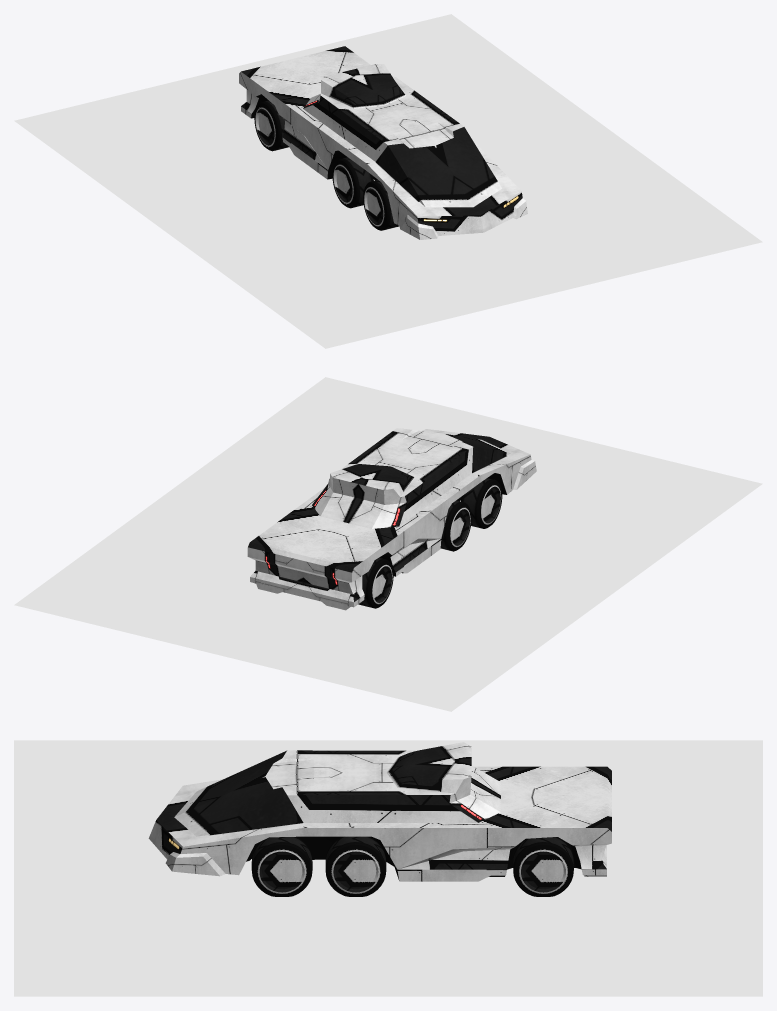
The model's file is Scifi.glb.
3 views of the same model, one above another, from view 1: azimuth 30°, elevation 25°; view 2: azimuth 150°, elevation 25°; view 3: azimuth 270°, elevation 25° (orthographic). The views are drawn at different scales.
Visible parts, largest first — view 1: shadow_2.014, SF_WV_02, Wheel_FL.005, Wheel_FL.006, Wheel_FL.004; view 2: shadow_2.014, SF_WV_02, Wheel_FL.004, Wheel_FL.006, Wheel_FL.005; view 3: shadow_2.014, SF_WV_02, Wheel_FL.002, Wheel_FL.001, Wheel_FL.003.
Boxes of the visible parts, x1,y1,x2,y2 form: shadow_2.014: [14, 14, 762, 348]; SF_WV_02: [239, 46, 527, 239]; Wheel_FL.005: [332, 157, 373, 208]; Wheel_FL.006: [254, 100, 288, 151]; Wheel_FL.004: [363, 180, 399, 230]; shadow_2.014: [14, 377, 762, 711]; SF_WV_02: [247, 428, 536, 610]; Wheel_FL.004: [461, 478, 502, 528]; Wheel_FL.006: [358, 558, 393, 608]; Wheel_FL.005: [440, 500, 471, 551]; shadow_2.014: [14, 740, 762, 996]; SF_WV_02: [148, 742, 611, 881]; Wheel_FL.002: [325, 836, 386, 896]; Wheel_FL.001: [251, 837, 312, 896]; Wheel_FL.003: [513, 837, 573, 896].
Bounding box in the file's own units: 7.05 × 1.37 × 8.7.
Materials: 2 (2 with a texture image).
